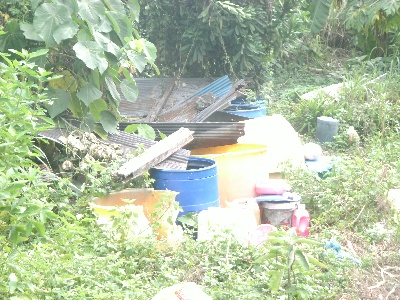bottle: (291, 202, 311, 239)
bucket: (185, 142, 272, 209), (88, 185, 179, 242), (148, 153, 223, 217)
